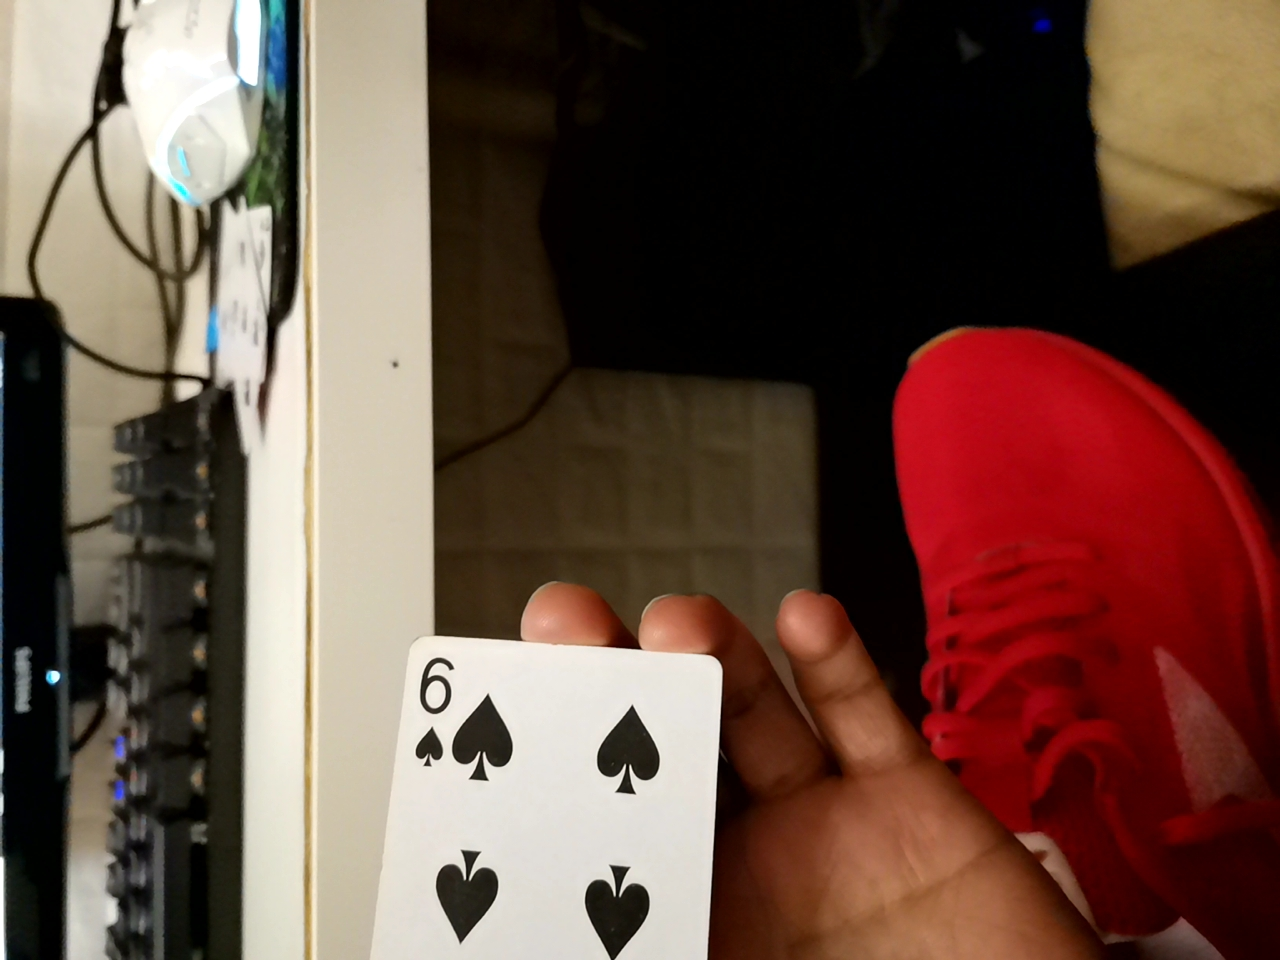ht 6: (394, 645, 745, 960)
